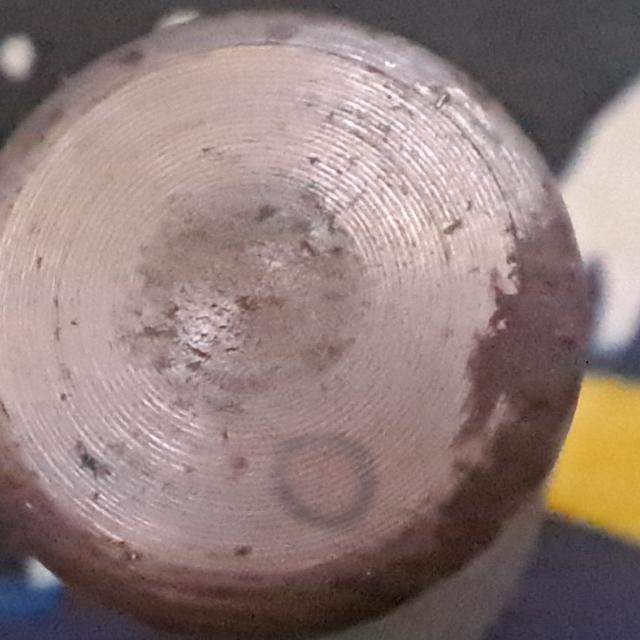defect: (265, 425, 388, 542)
planson: (0, 6, 591, 640)
